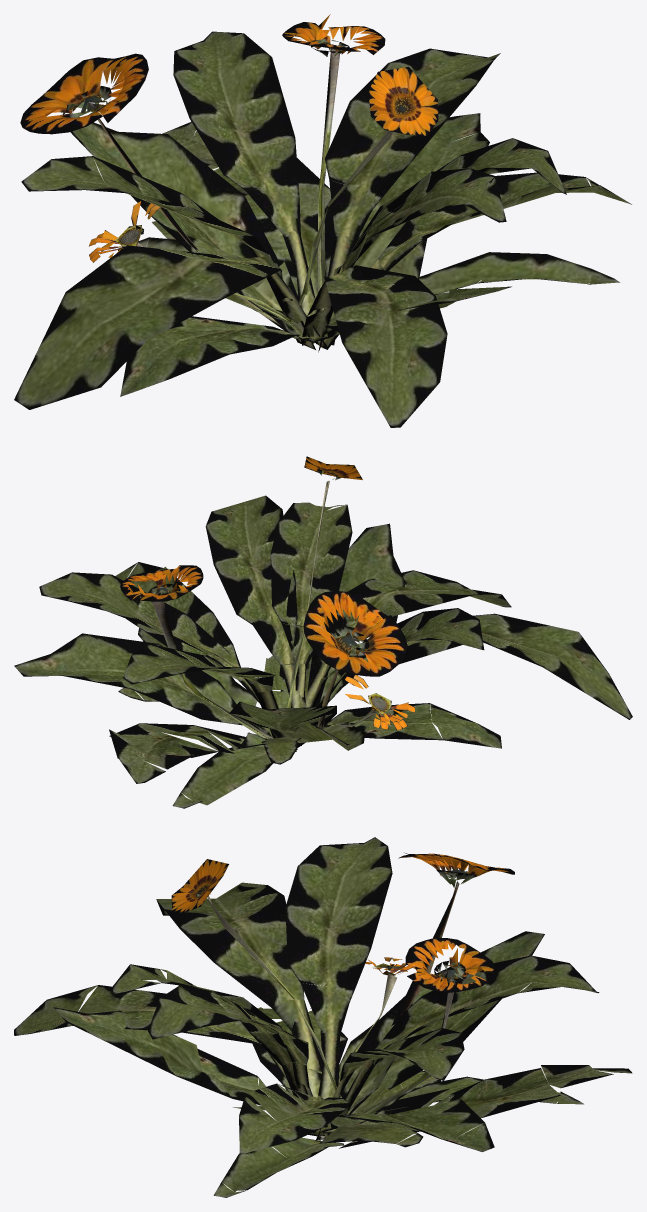
The model's file is ph-blume-gazania-h.glb.
3 renders of one model, top to bottom at view 1: azimuth 30°, elevation 25°; view 2: azimuth 150°, elevation 25°; view 3: azimuth 270°, elevation 25°, orthographic. The views are drawn at different scales.
Visible parts, largest first — view 1: flower_gazania_h_LOD0; view 2: flower_gazania_h_LOD0; view 3: flower_gazania_h_LOD0.
Part boxes in pixels (left/top/right/bottom): flower_gazania_h_LOD0: left=14, top=14, right=631, bottom=427; flower_gazania_h_LOD0: left=14, top=456, right=632, bottom=808; flower_gazania_h_LOD0: left=14, top=837, right=632, bottom=1197.
Size of the model in its own units: 0.3406 by 0.1633 by 0.3268.
Materials: 1 (1 with a texture image).
